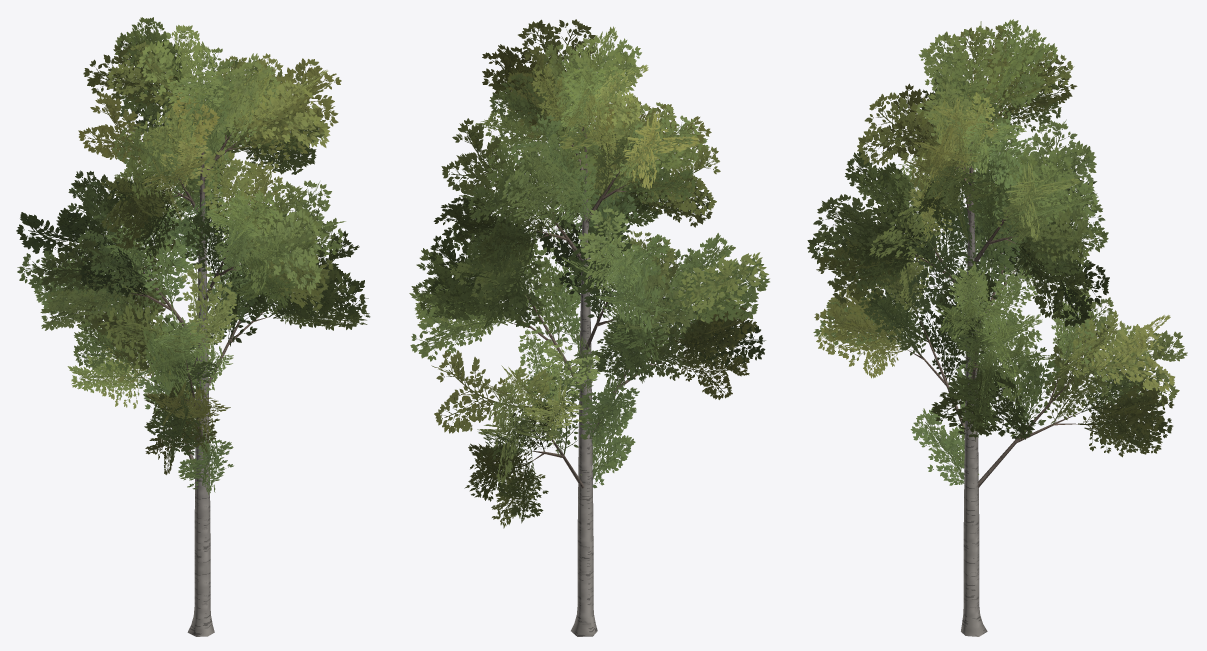
The model's file is tree_medium.glb.
3 renders of one model, left to right at view 1: azimuth 30°, elevation 25°; view 2: azimuth 150°, elevation 25°; view 3: azimuth 270°, elevation 25°, orthographic.
Parts seen in each view (by area): view 1: Object_136, Object_135; view 2: Object_136, Object_135; view 3: Object_136, Object_135.
Boxes of the visible parts, x1,y1,x2,y2 form: Object_136: [16, 17, 370, 494]; Object_135: [129, 119, 268, 636]; Object_136: [409, 19, 769, 528]; Object_135: [512, 127, 666, 636]; Object_136: [807, 19, 1187, 485]; Object_135: [908, 142, 1080, 636].
Bounding box in the file's own units: 3.6 × 6.69 × 3.96.
2 materials, 2 textured.
